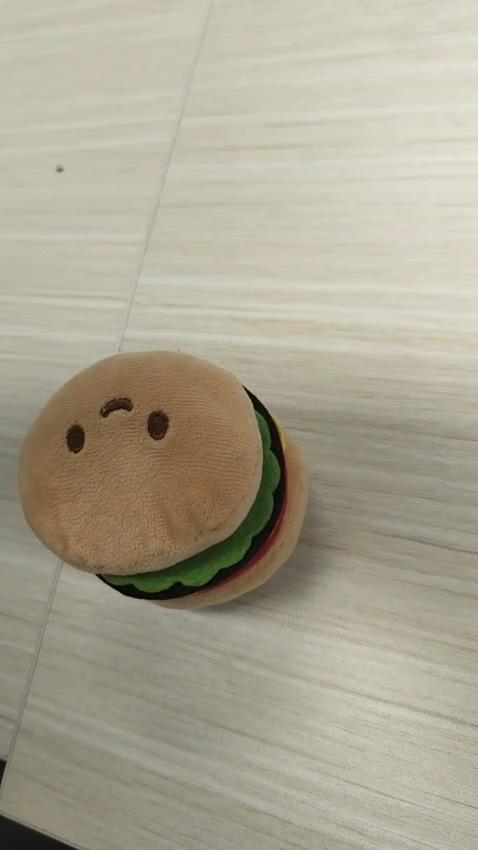hamburger: (17, 348, 309, 611)
